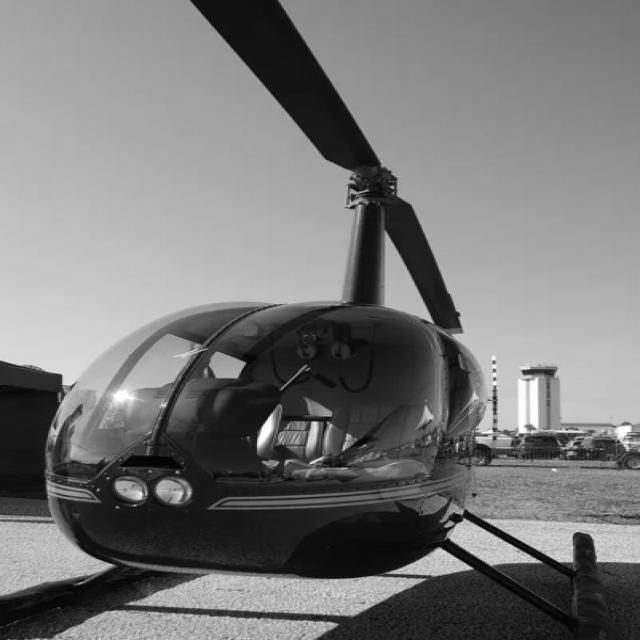Helicopter: (44, 2, 558, 617)
